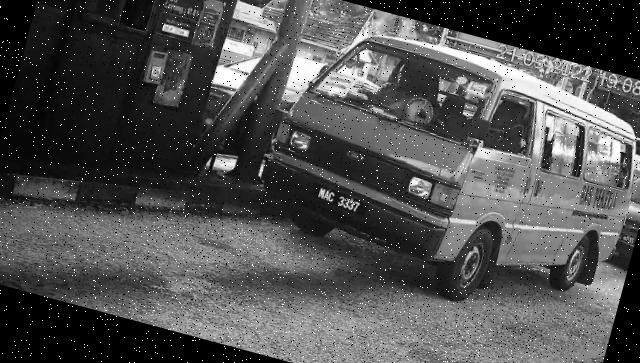License_Plate: (311, 182, 371, 222)
van: (246, 11, 640, 339)
